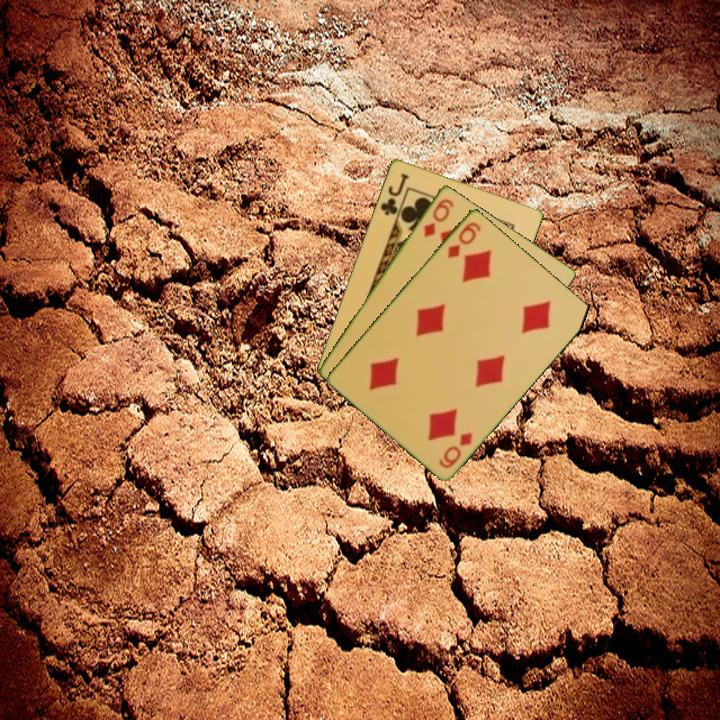6d: (444, 218, 484, 261), (435, 428, 475, 471), (420, 194, 457, 240)
Jc: (377, 169, 412, 218)
